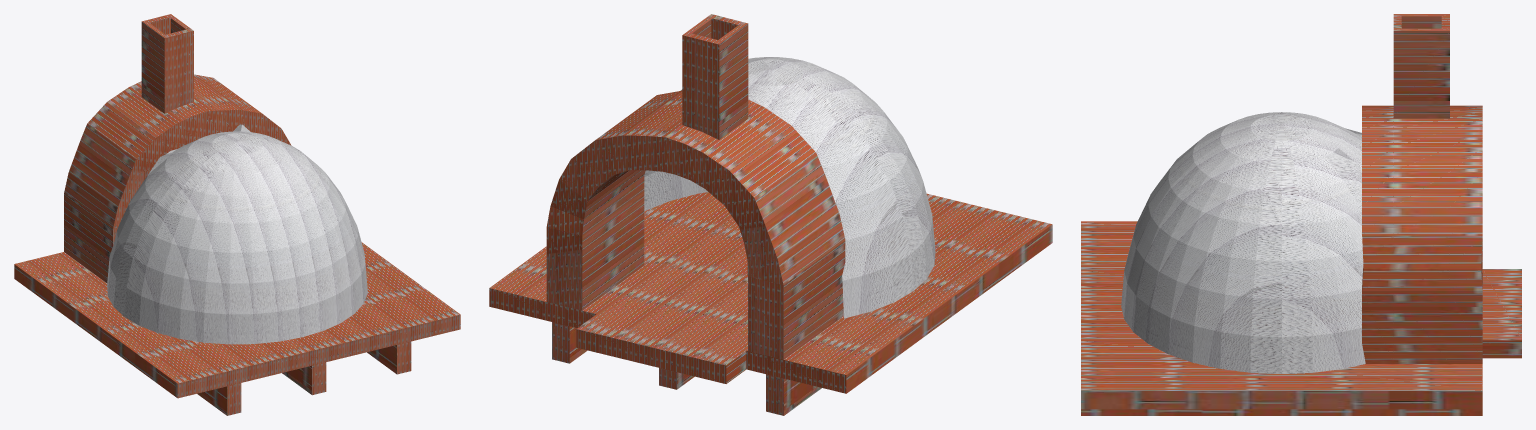
File: 合成台.fbx
3 views of the same model, side by side, from view 1: azimuth 30°, elevation 25°; view 2: azimuth 150°, elevation 25°; view 3: azimuth 270°, elevation 25° (orthographic). The views are drawn at different scales.
Parts seen in each view (by area): view 1: 立方體.005; view 2: 立方體.005; view 3: 立方體.005.
Part boxes in pixels (box(x1,y1,x2,y2)): 立方體.005: box(14, 14, 460, 415); 立方體.005: box(489, 14, 1052, 415); 立方體.005: box(1081, 14, 1521, 415).
Size of the model in its own units: 200 by 182 by 220.
Materials: 2 (2 with a texture image).
